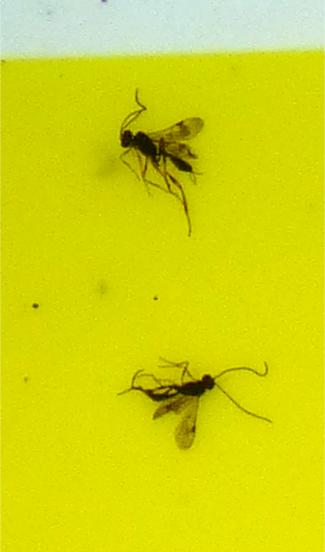Hymenoptera: (100, 100, 209, 220), (127, 354, 225, 452)
